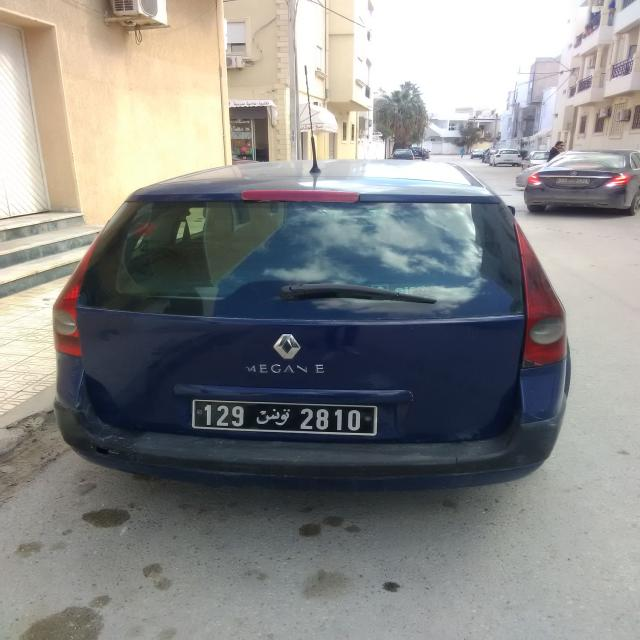LP: (190, 398, 380, 438)
